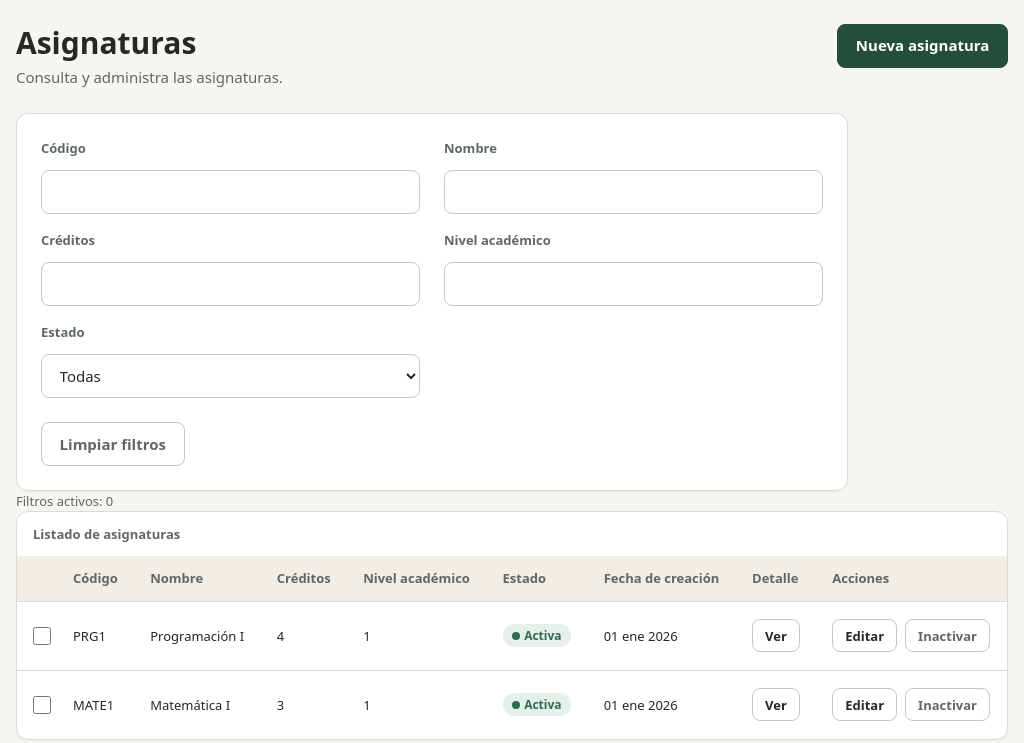
Test case: ListadoAsignaturasComponent › muestra la barra contextual con las acciones válidas al seleccionar
The image size is (1024, 743).
What coordinates should you click on to do the following:
click the cell "PRG1"
I would click on:
 (96, 636)
Its box is [57,601,134,670].
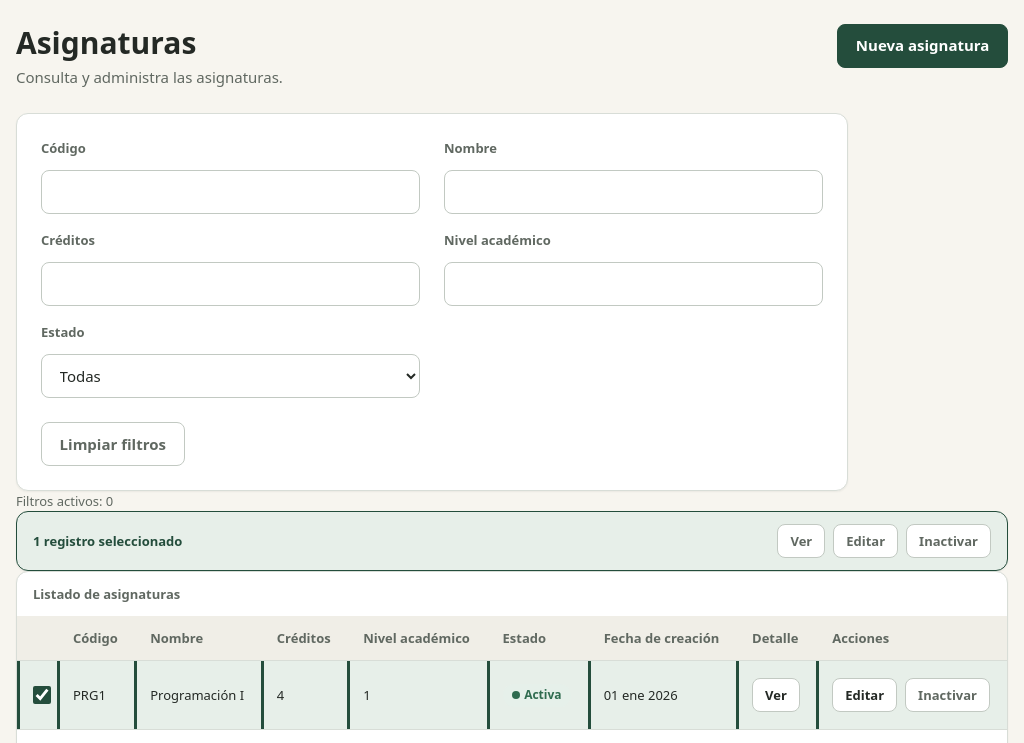
expect the text "1 registro seleccionado" is shown: met, box [33,531,182,551]
expect the button "Ver" is shown: met, box [778,524,825,558]
expect the button "Editar" is shown: met, box [833,524,898,558]
